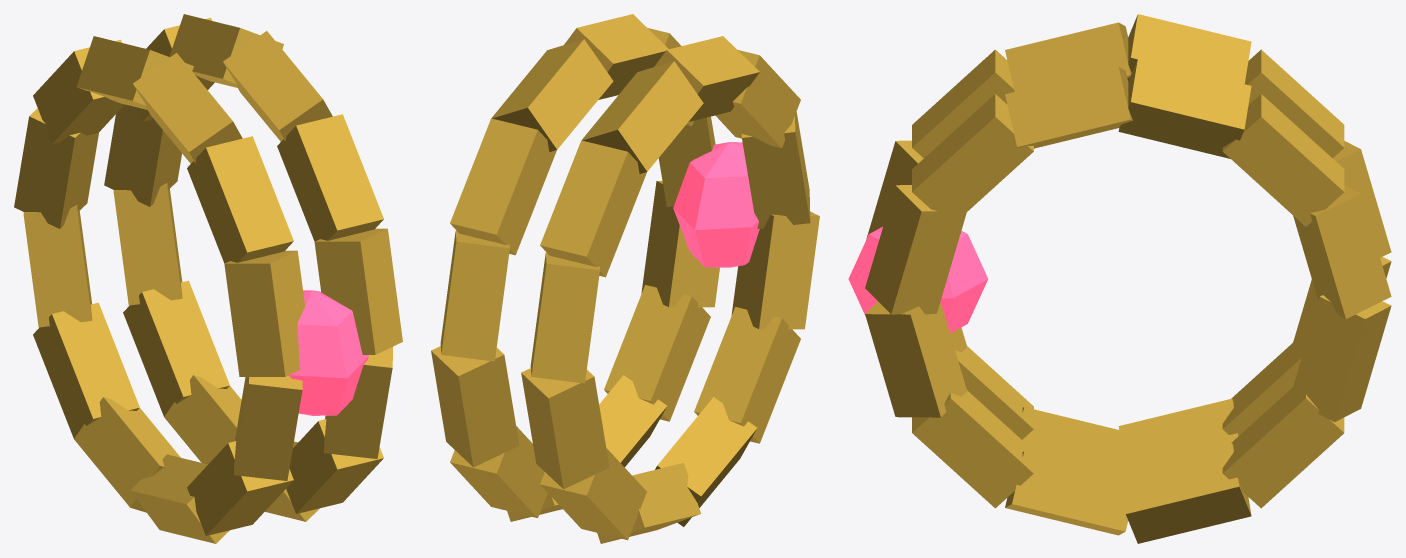
File: naga_queen_armband_l.glb
3 renders of one model, left to right at view 1: azimuth 30°, elevation 25°; view 2: azimuth 150°, elevation 25°; view 3: azimuth 270°, elevation 25°, orthographic.
Parts seen in each view (by area): view 1: naga_queen_armband_l; view 2: naga_queen_armband_l; view 3: naga_queen_armband_l.
Boxes of the visible parts, x1,y1,x2,y2 form: naga_queen_armband_l: (14,14,402,543); naga_queen_armband_l: (431,14,819,543); naga_queen_armband_l: (848,14,1391,543).
Size of the model in its own units: 0.1025 by 0.3011 by 0.3105.
